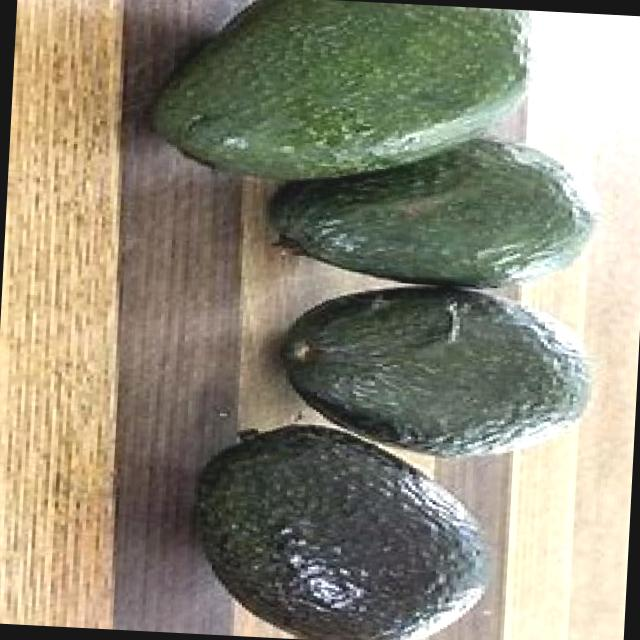avocado: (153, 0, 548, 194), (179, 424, 489, 640), (245, 279, 593, 463), (250, 121, 602, 296)
